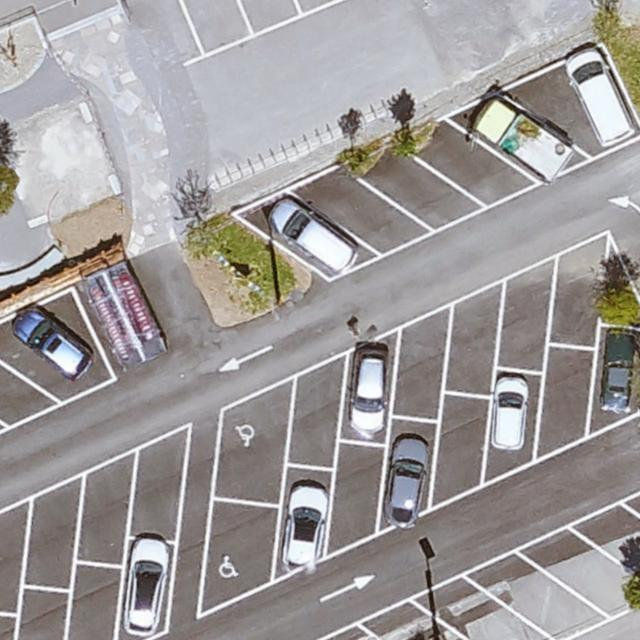tree: (596, 282, 639, 326), (0, 127, 18, 218), (185, 226, 219, 257), (339, 151, 370, 173), (624, 572, 640, 610), (393, 136, 419, 156)
